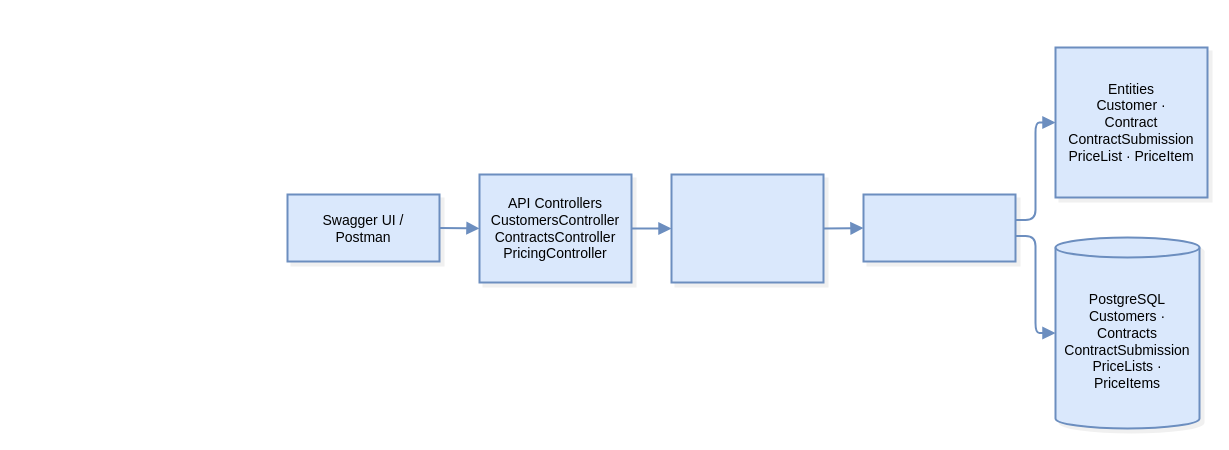
This 1229x450 diagram has some shape labels left out. Here are the shapes that lost their labels. From the top down, the centre of each, then its label:
the point at 749,230: Services CustomerService ContractService PricingService
the point at 941,229: Data access QtkdDbContext
